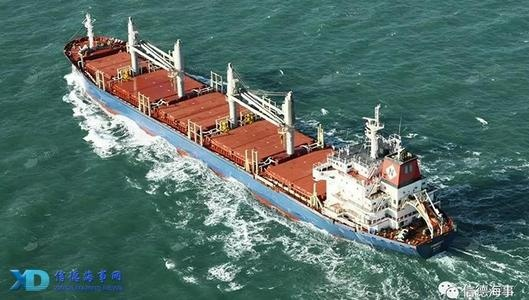Cargoship: (65, 11, 461, 260)
